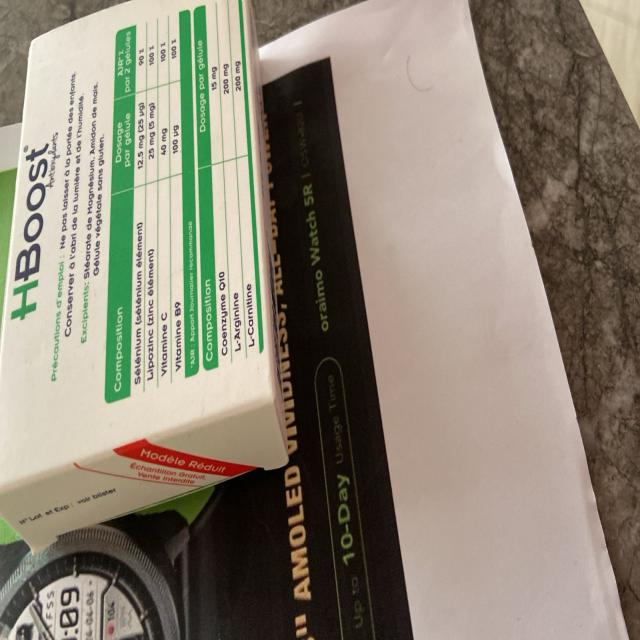Oraimo Watch 5R OSW-820: (293, 93, 332, 333)
